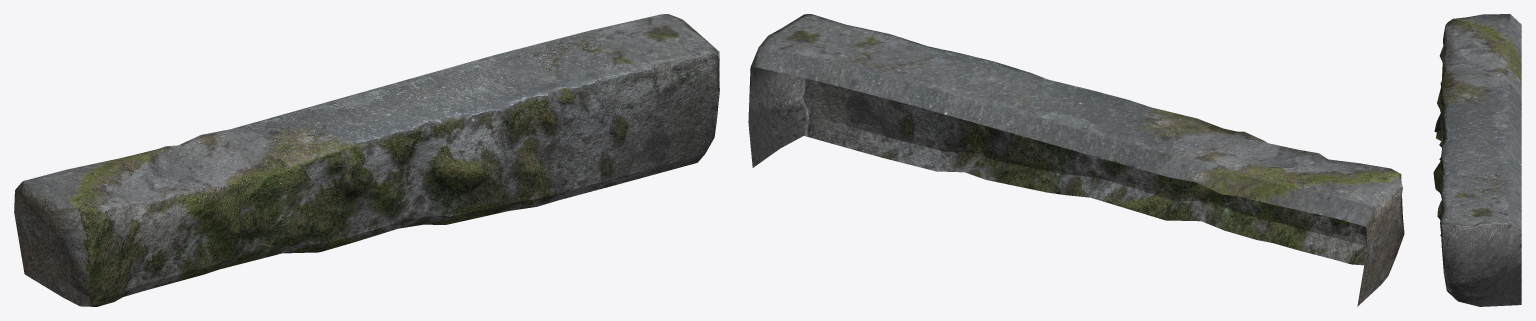
File: beech_forest_stair_01_1.fbx
3 views of the same model, side by side, from view 1: azimuth 30°, elevation 25°; view 2: azimuth 150°, elevation 25°; view 3: azimuth 270°, elevation 25° (orthographic). The views are drawn at different scales.
Visible parts, largest first — view 1: beech_forest_stair_01_1_beech_forest_stair_01_1_LOD0; view 2: beech_forest_stair_01_1_beech_forest_stair_01_1_LOD0; view 3: beech_forest_stair_01_1_beech_forest_stair_01_1_LOD0.
Part boxes in pixels (x1,y1,x2,y2): beech_forest_stair_01_1_beech_forest_stair_01_1_LOD0: (14,14,719,306); beech_forest_stair_01_1_beech_forest_stair_01_1_LOD0: (748,14,1404,306); beech_forest_stair_01_1_beech_forest_stair_01_1_LOD0: (1433,14,1521,306).
Size of what is drawn, in the model's own units: 47.85 by 8.75 by 8.13.
